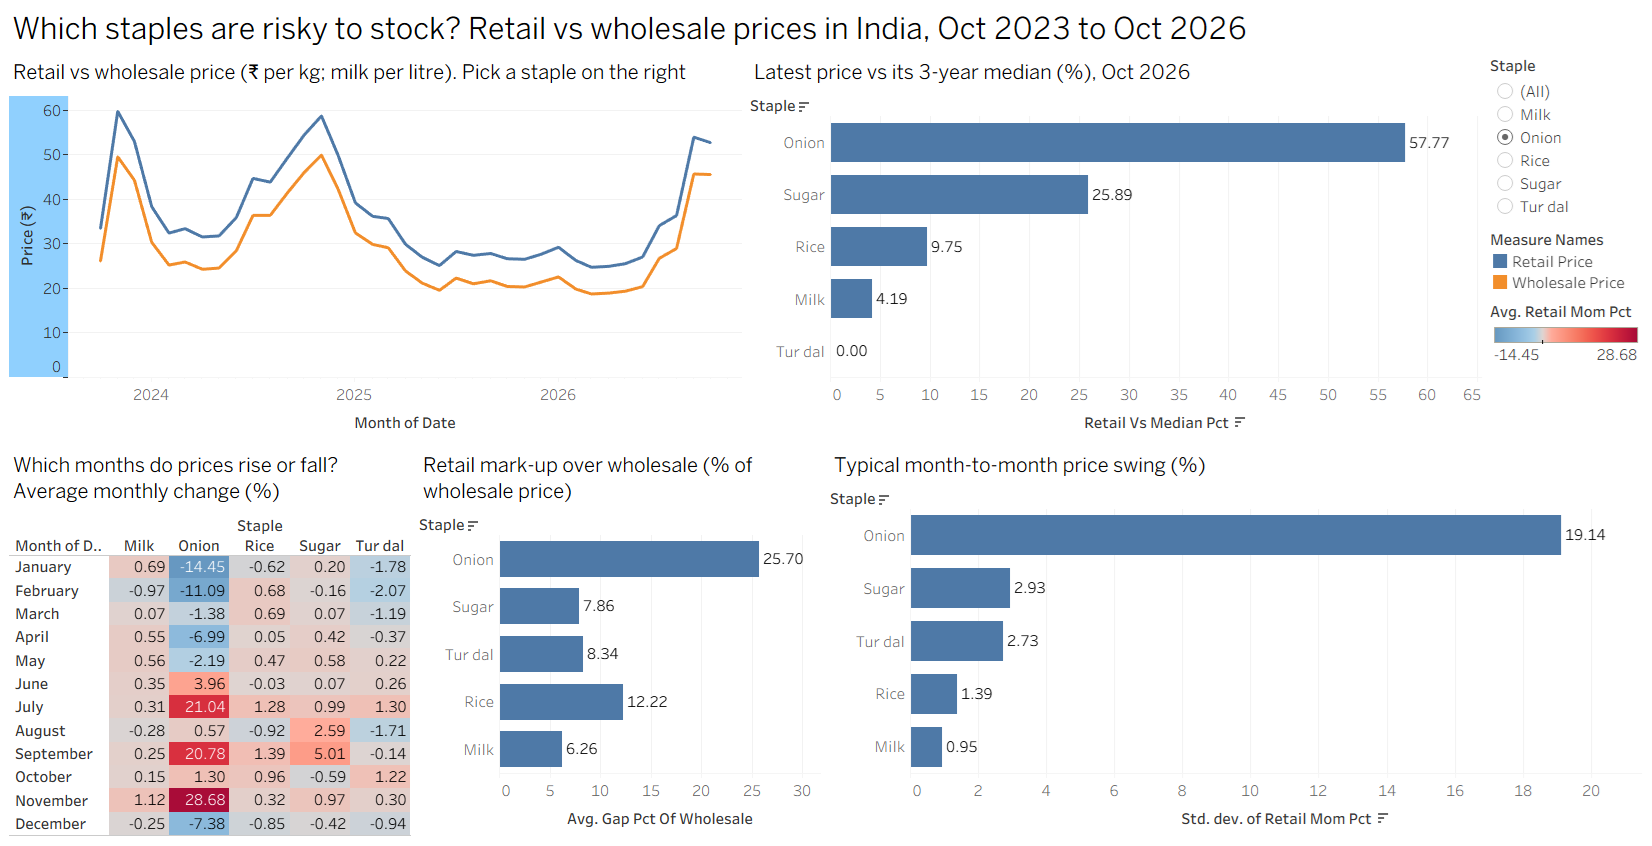

What the dashboard file says about the page in this screenshot:
{"tool":"tableau","page":{"name":"Staples price risk","canvas":[1000,1000],"units":"permille","ordinal":0},"visuals":[{"type":"title","box":[4.8,9.4,990.3,54.1]},{"type":"worksheet","title":"Price trend","mark":"Automatic","cols":["date"],"box":[4.8,63.5,446.9,461.4]},{"type":"worksheet","title":"Prices now","mark":"Automatic","rows":["staple"],"cols":["retail_vs_median_pct"],"box":[451.7,63.5,446.9,461.4]},{"type":"filter","title":"Price trend","param":"[federated.1kll4xv14yegd215ewcsd1p4al1y].[none:staple:nk]","box":[898.6,63.5,96.6,204.5]},{"type":"legend","title":"Price trend","param":"[federated.1kll4xv14yegd215ewcsd1p4al1y].[:Measure Names]","box":[898.6,267.9,96.6,84.6]},{"type":"legend","title":"Seasonality","param":"[federated.1kll4xv14yegd215ewcsd1p4al1y].[avg:retail_mom_pct:qk]","box":[898.6,352.5,96.6,85.8]},{"type":"worksheet","title":"Seasonality","mark":"Square","rows":["date"],"cols":["staple"],"box":[4.8,524.8,247.6,465.8]},{"type":"worksheet","title":"Markup","mark":"Automatic","rows":["staple"],"cols":["gap_pct_of_wholesale"],"box":[252.4,524.8,247.6,465.8]},{"type":"worksheet","title":"Volatility","mark":"Automatic","rows":["staple"],"cols":["retail_mom_pct"],"box":[500,524.8,495.2,465.8]}]}

Visuals, with their boxes on the dashboard's canvas, which has no fixed pixel size, in thousandths of its width and height (x1, y1, x2, y2). These are canvas units, not pixel positions in the 1652x846 screenshot, which may show the page scaled, cropped or inside an application window:
title: bbox=(5, 9, 995, 64)
"Price trend" worksheet: bbox=(5, 64, 452, 525)
"Prices now" worksheet: bbox=(452, 64, 899, 525)
"Price trend" filter: bbox=(899, 64, 995, 268)
"Price trend" legend: bbox=(899, 268, 995, 352)
"Seasonality" legend: bbox=(899, 352, 995, 438)
"Seasonality" worksheet (Square marks): bbox=(5, 525, 252, 991)
"Markup" worksheet: bbox=(252, 525, 500, 991)
"Volatility" worksheet: bbox=(500, 525, 995, 991)
